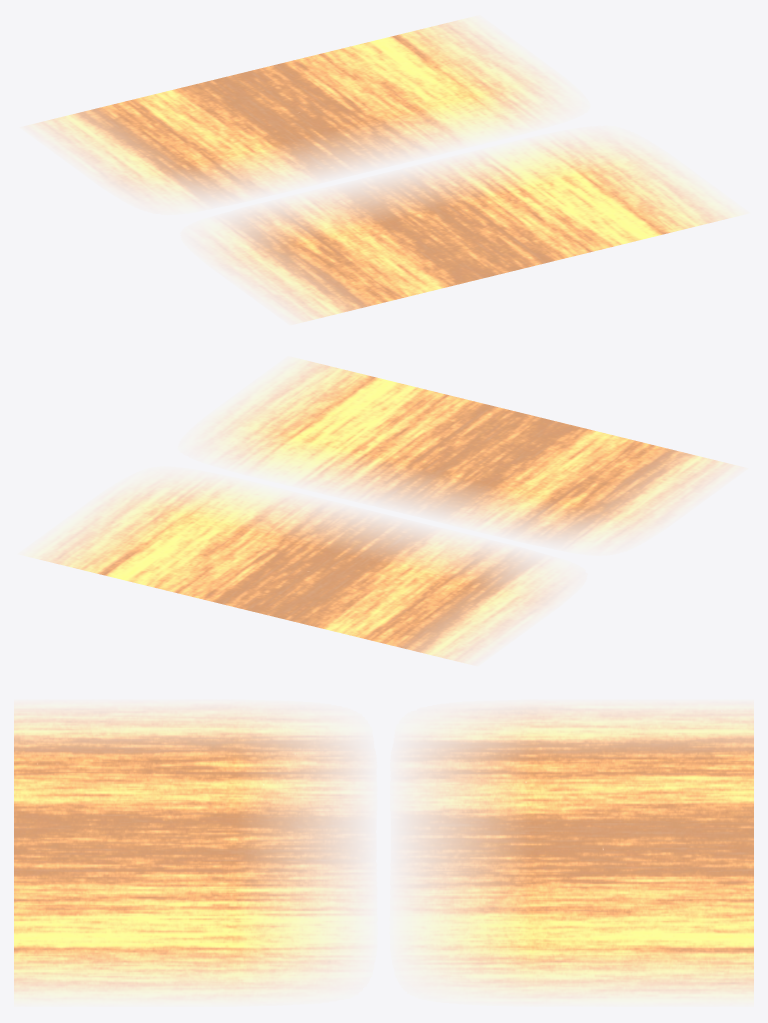
File: mwm_rill_seg.glb
3 renders of one model, top to bottom at view 1: azimuth 30°, elevation 25°; view 2: azimuth 150°, elevation 25°; view 3: azimuth 270°, elevation 25°, orthographic. The views are drawn at different scales.
Bounding box in the file's own units: 1 × 0 × 1.
Materials: 1 (1 with a texture image).
